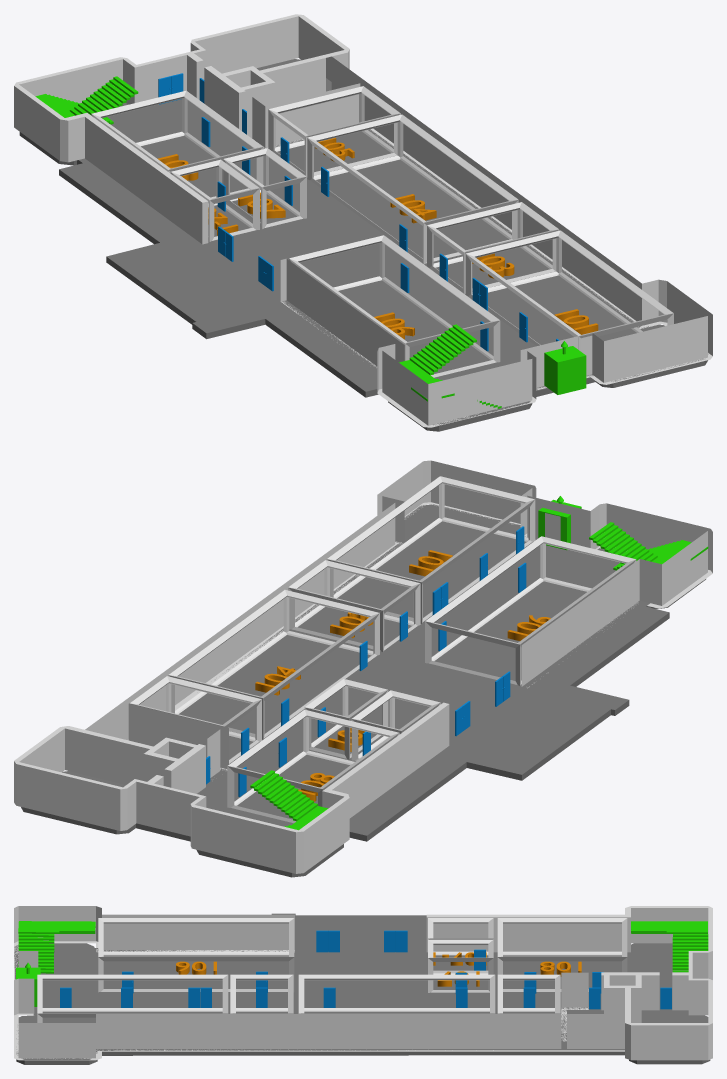
3 renders of one model, top to bottom at view 1: azimuth 30°, elevation 25°; view 2: azimuth 150°, elevation 25°; view 3: azimuth 270°, elevation 25°, orthographic. The views are drawn at different scales.
Parts seen in each view (by area): view 1: Floor, Wall, B101, Elevator1, Stair1.003, Stair1.001; view 2: Floor, Wall, B101, Stair1.001, Stair1.003, Elevator1; view 3: Wall, Floor, B101, Stair1.002, Stair1, StairFlatFloor2.001, StairFlatFloor2, Door.007, Door.008, Door, Text.004, Text.003 (+4 smaller).
Part boxes in pixels (left/top/right/bottom): Floor: left=19, top=59, right=708, bottom=431; Wall: left=14, top=14, right=712, bottom=427; B101: left=91, top=86, right=673, bottom=377; Elevator1: left=544, top=346, right=586, bottom=394; Stair1.003: left=409, top=324, right=476, bottom=375; Stair1.001: left=70, top=76, right=138, bottom=118; Floor: left=21, top=504, right=705, bottom=877; Wall: left=14, top=460, right=712, bottom=873; B101: left=130, top=476, right=636, bottom=823; Stair1.001: left=250, top=770, right=317, bottom=821; Stair1.003: left=589, top=522, right=657, bottom=564; Elevator1: left=538, top=499, right=581, bottom=550; Wall: left=14, top=906, right=712, bottom=1060; Floor: left=14, top=913, right=710, bottom=1064; B101: left=37, top=918, right=627, bottom=1022; Stair1.002: left=18, top=933, right=54, bottom=973; Stair1: left=672, top=934, right=708, bottom=972; StairFlatFloor2.001: left=18, top=921, right=95, bottom=933; StairFlatFloor2: left=631, top=921, right=707, bottom=933; Door.007: left=316, top=930, right=339, bottom=952; Door.008: left=384, top=930, right=407, bottom=952; Door: left=188, top=987, right=211, bottom=1007; Text.004: left=540, top=961, right=581, bottom=976; Text.003: left=176, top=961, right=216, bottom=974.
Size of the model in its own units: 1.25 by 0.1887 by 2.52.
